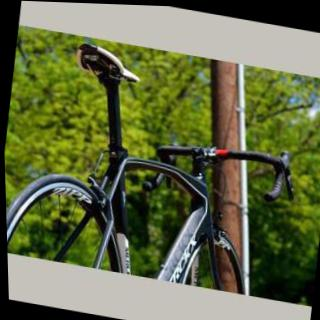Bike: (1, 25, 289, 295)
